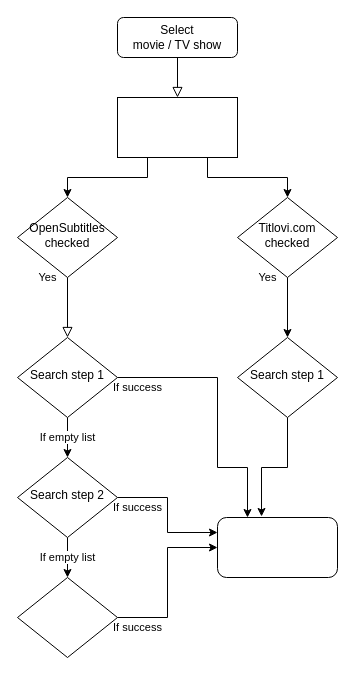
The diagram is 355 pixels wide and 675 high, and some of its shapes have lost their labels. The centre of each missing label's shape, as x and y in pixels:
Make full list: point (277, 547)
Process movie filename: point (177, 127)
Search step 3: point (67, 617)
